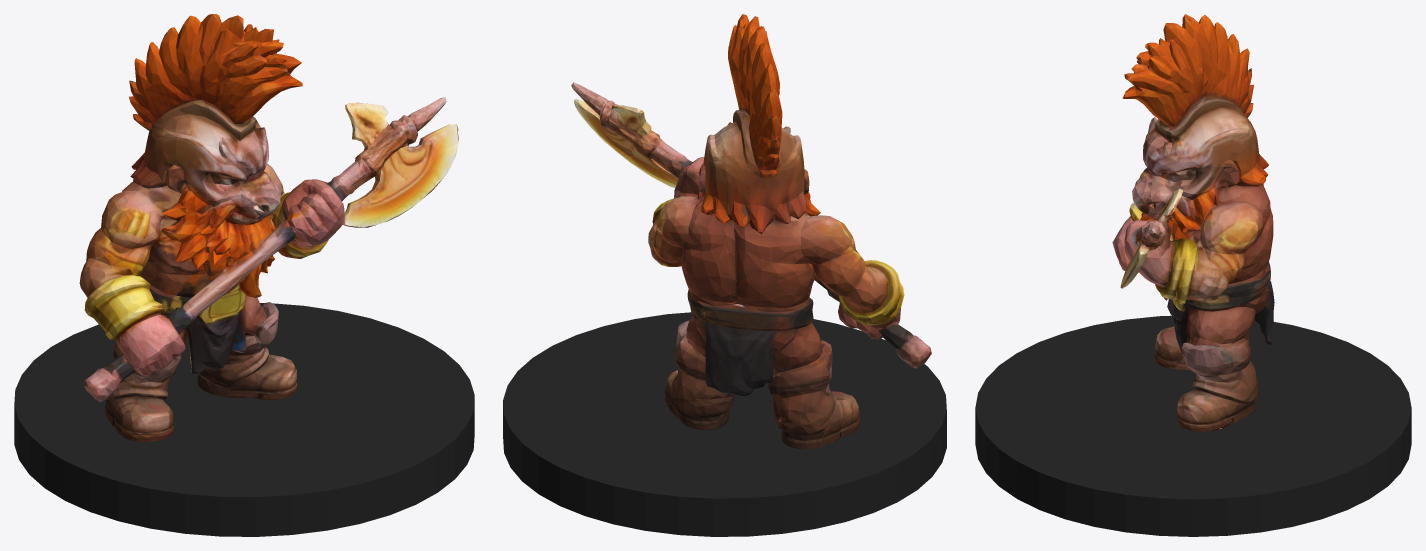
File: fyr-hearthguard.glb
The picture shows the model from 3 angles, left to right: view 1: azimuth 30°, elevation 25°; view 2: azimuth 150°, elevation 25°; view 3: azimuth 270°, elevation 25°; orthographic projection. The views are drawn at different scales.
Parts seen in each view (by area): view 1: figure, base; view 2: base, figure; view 3: base, figure.
Part boxes in pixels (<box>): figure: <box>79,14,458,441</box>; base: <box>14,303,474,536</box>; base: <box>503,312,946,536</box>; figure: <box>571,14,931,449</box>; base: <box>975,315,1411,536</box>; figure: <box>1112,14,1274,431</box>.
Bounding box in the file's own units: 1.26 × 1.32 × 1.26.
Materials: 2 (1 with a texture image).
